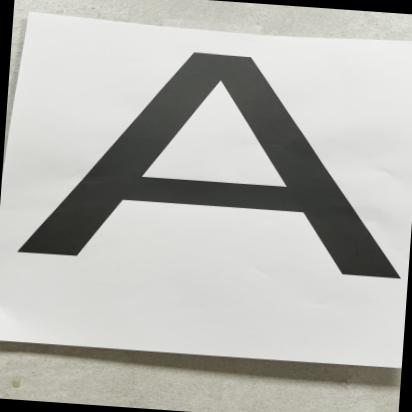seat: (5, 28, 412, 346)
